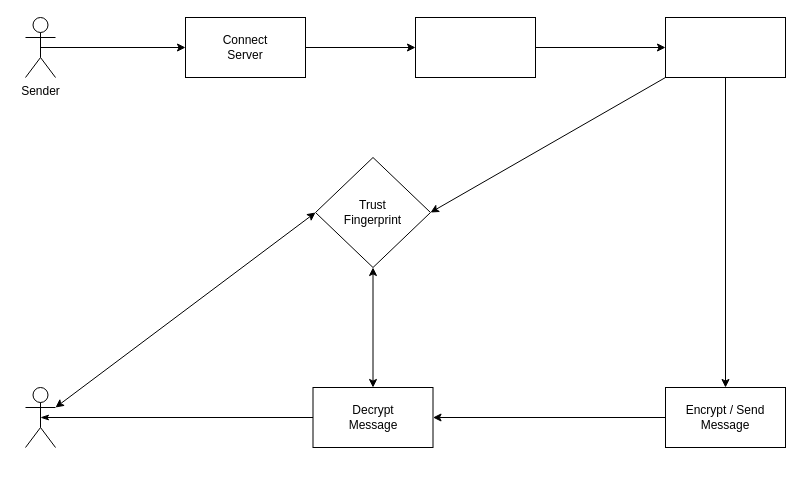
This 803x486 diagram has some shape labels left out. The shapes that lost their labels are listed below. From the top down, each one's box as (x1, y1, x2, y2) in pixels, then its label:
(414, 16, 536, 78): Login
(664, 16, 786, 78): Generate Fingerprint
(24, 386, 56, 448): Receiver
